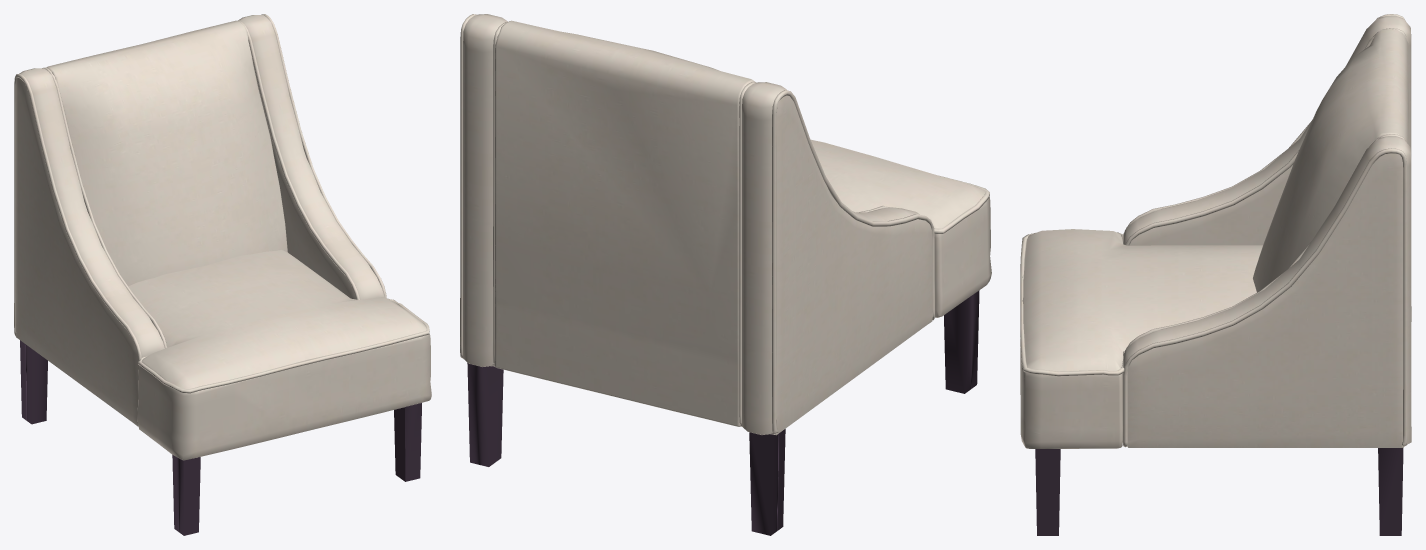
Rendered from armchair_abo_B07DBH52YB.glb.
The picture shows the model from 3 angles, left to right: view 1: azimuth 30°, elevation 25°; view 2: azimuth 150°, elevation 25°; view 3: azimuth 270°, elevation 25°; orthographic projection. The views are drawn at different scales.
Parts seen in each view (by area): view 1: RootNode; view 2: RootNode; view 3: RootNode.
Boxes of the visible parts, x1,y1,x2,y2 form: RootNode: (14, 14, 431, 535); RootNode: (460, 14, 991, 535); RootNode: (1020, 14, 1411, 535).
Bounding box in the file's own units: 0.6886 × 0.8864 × 0.8056.
Materials: 1 (1 with a texture image).
